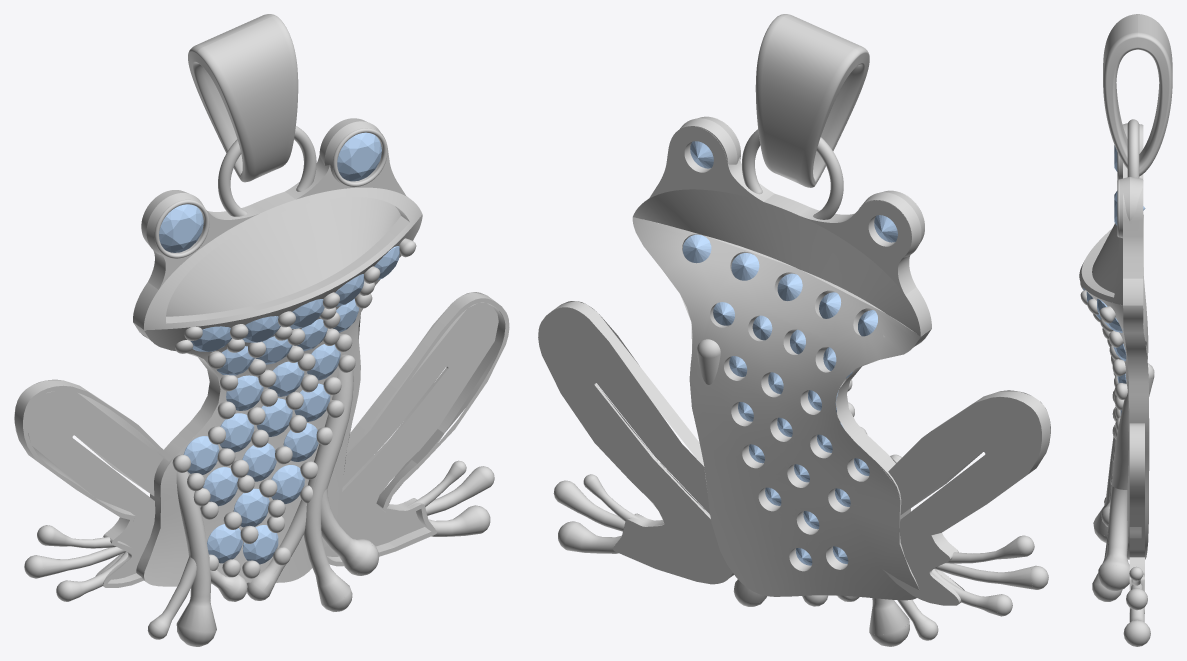
3 renders of one model, left to right at view 1: azimuth 30°, elevation 25°; view 2: azimuth 150°, elevation 25°; view 3: azimuth 270°, elevation 25°, orthographic. The views are drawn at different scales.
Parts seen in each view (by area): view 1: Prong, Bezel, Diamond_Round (×18), PG-F (149).3dm; view 2: Prong, Bezel, PG-F (149).3dm; view 3: Prong, Bezel, PG-F (149).3dm, Diamond_Round.
Boxes of the visible parts, box(x1,y1,x2,y2) form: Prong: box(14, 214, 509, 646); Bezel: box(133, 118, 422, 329); Diamond_Round (×18): box(159, 132, 381, 564); PG-F (149).3dm: box(188, 14, 298, 182); Prong: box(538, 217, 1050, 646); Bezel: box(633, 116, 931, 336); PG-F (149).3dm: box(755, 14, 869, 187); Prong: box(1080, 214, 1154, 646); Bezel: box(1079, 119, 1143, 305); PG-F (149).3dm: box(1103, 14, 1172, 176); Diamond_Round: box(1097, 299, 1123, 332).
Bounding box in the file's own units: 2.58 × 3.02 × 0.4645.
